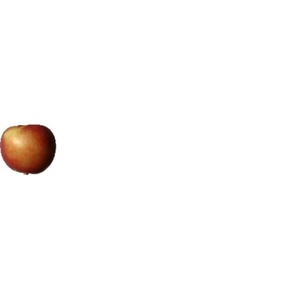maçã braeburn: (1, 122, 59, 177)
